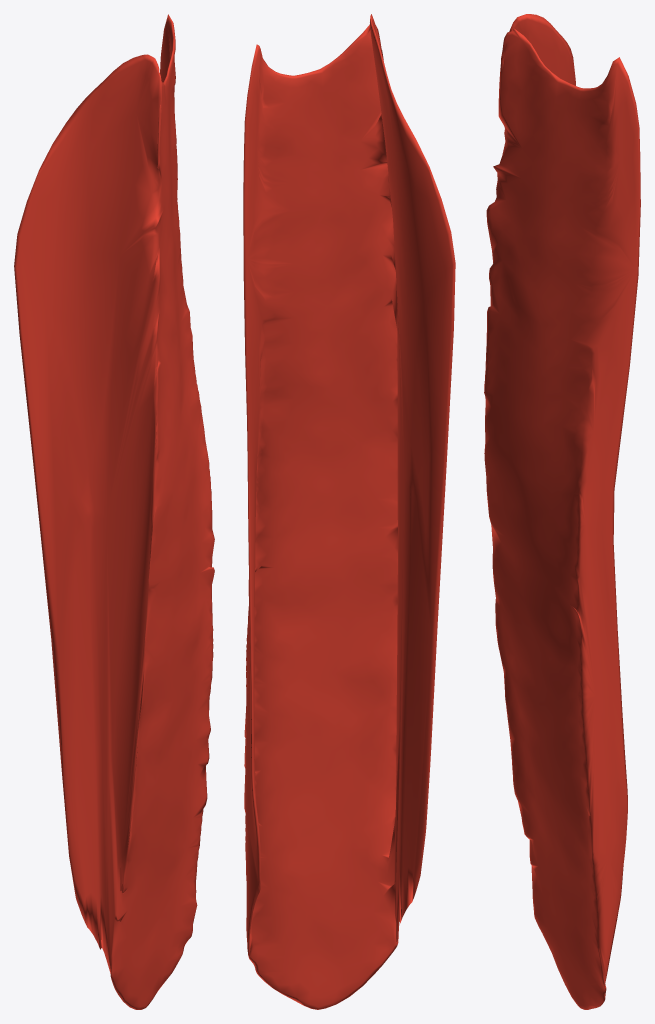
The model's file is Tibialis_posterior_interosseus_membrane_right.glb.
3 views of the same model, side by side, from view 1: azimuth 30°, elevation 25°; view 2: azimuth 150°, elevation 25°; view 3: azimuth 270°, elevation 25° (orthographic).
Parts seen in each view (by area): view 1: Tibialis_posterior_on_post._surface_of_interosseus_membrane_; view 2: Tibialis_posterior_on_post._surface_of_interosseus_membrane_; view 3: Tibialis_posterior_on_post._surface_of_interosseus_membrane_.
Part boxes in pixels (x1,y1,x2,y2): Tibialis_posterior_on_post._surface_of_interosseus_membrane_: (14, 14, 214, 1009); Tibialis_posterior_on_post._surface_of_interosseus_membrane_: (243, 14, 455, 1009); Tibialis_posterior_on_post._surface_of_interosseus_membrane_: (484, 14, 640, 1009).
Size of the model in its own units: 0.0308 by 0.1412 by 0.0204.
